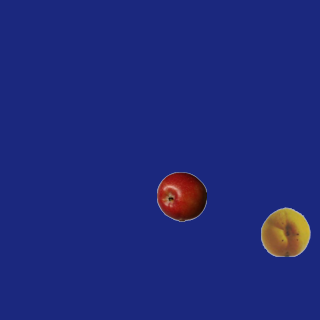Apple Braeburn: (156, 171, 206, 221)
Peach 2: (260, 206, 310, 256)
